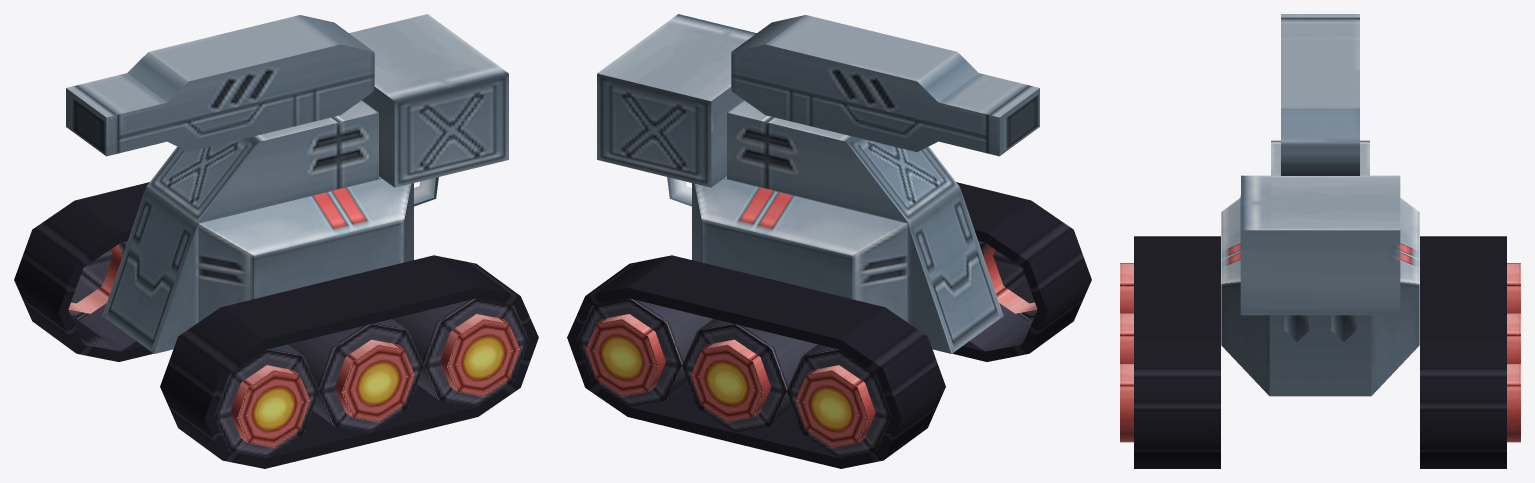
The model's file is roboboomerang_skin.FBX.
3 views of the same model, side by side, from view 1: azimuth 30°, elevation 25°; view 2: azimuth 150°, elevation 25°; view 3: azimuth 270°, elevation 25° (orthographic).
Parts seen in each view (by area): view 1: Box010; view 2: Box010; view 3: Box010.
Boxes of the visible parts, bbox=[...] form: Box010: bbox=[14, 14, 538, 468]; Box010: bbox=[567, 14, 1091, 468]; Box010: bbox=[1120, 14, 1520, 468].
Size of the model in its own units: 145 by 135 by 121.
